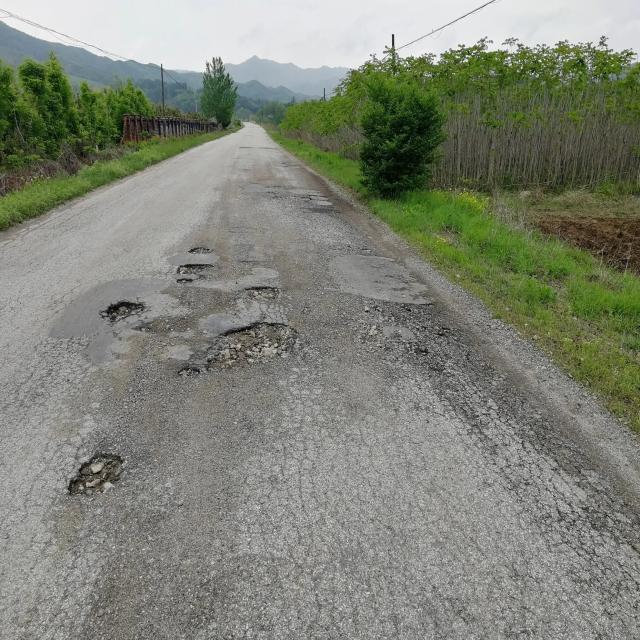Pothole: (183, 316, 302, 379), (368, 310, 440, 365), (70, 447, 123, 501), (101, 300, 146, 324), (174, 264, 216, 284), (296, 190, 334, 212), (242, 281, 280, 302), (187, 244, 214, 255), (282, 159, 302, 170)
